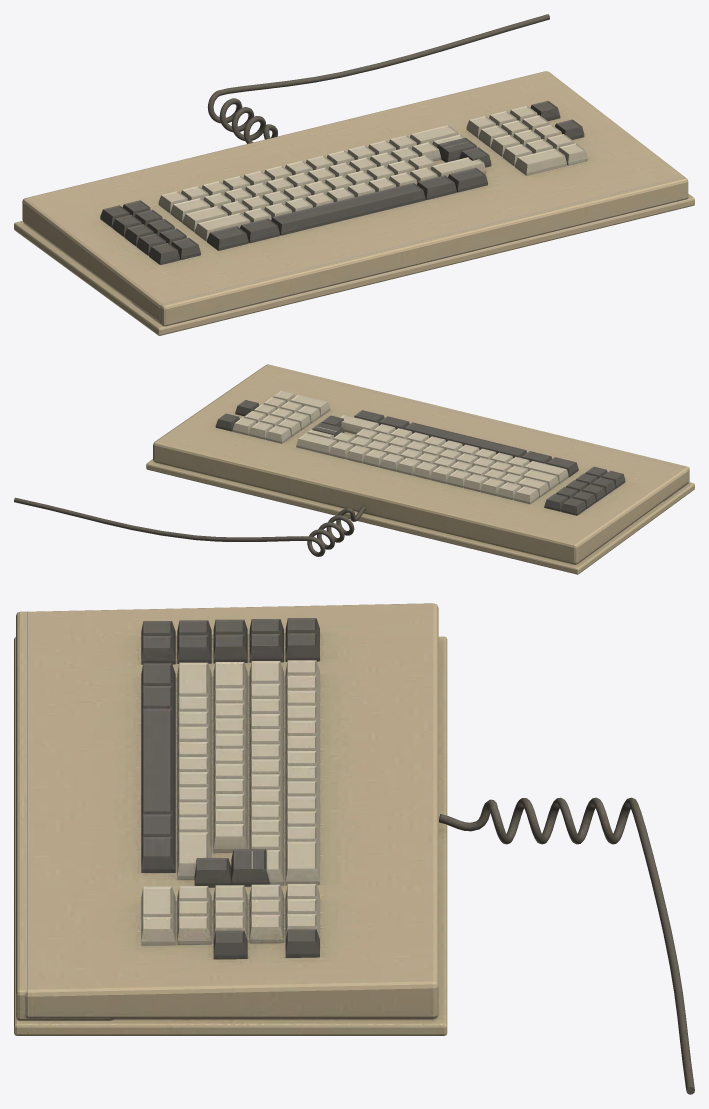
File: keyboard-d.glb
3 renders of one model, top to bottom at view 1: azimuth 30°, elevation 25°; view 2: azimuth 150°, elevation 25°; view 3: azimuth 270°, elevation 25°, orthographic. The views are drawn at different scales.
Visible parts, largest first — view 1: case-baked; view 2: case-baked; view 3: case-baked.
Boxes of the visible parts, left/top/right/bottom form: case-baked: left=14, top=14, right=694, bottom=335; case-baked: left=14, top=364, right=694, bottom=574; case-baked: left=14, top=603, right=694, bottom=1094.
Size of the model in its own units: 0.5576 by 0.0385 by 0.3583.
Materials: 1 (1 with a texture image).
